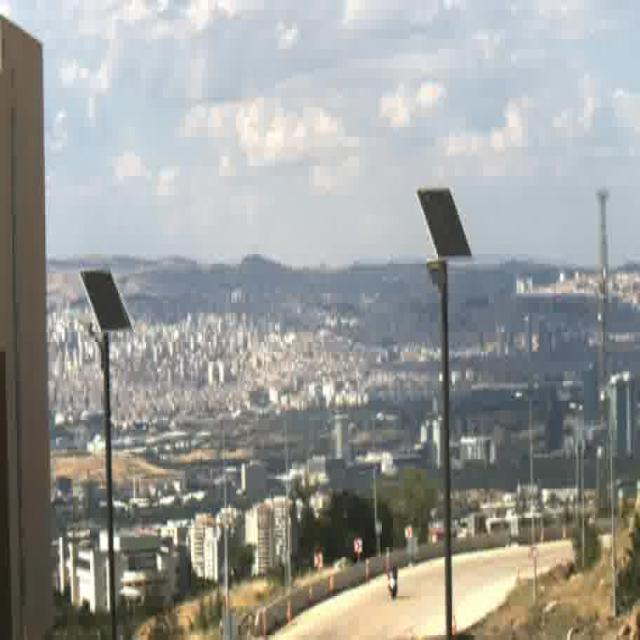Motorcycle: (386, 566, 399, 598)
